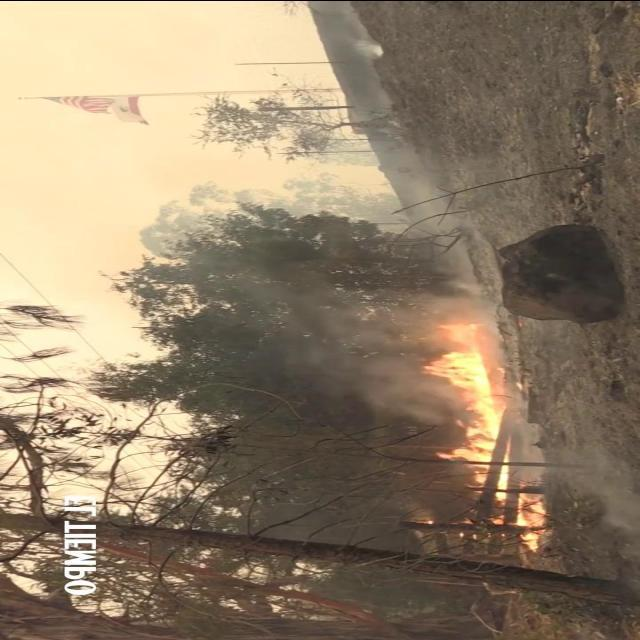Fire: (419, 319, 505, 501), (516, 494, 546, 550)
